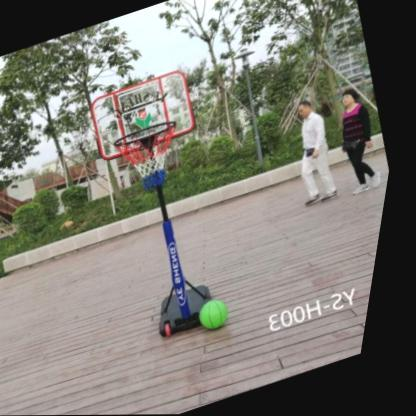basketball: (203, 296, 243, 333)
rim: (108, 117, 199, 199)
